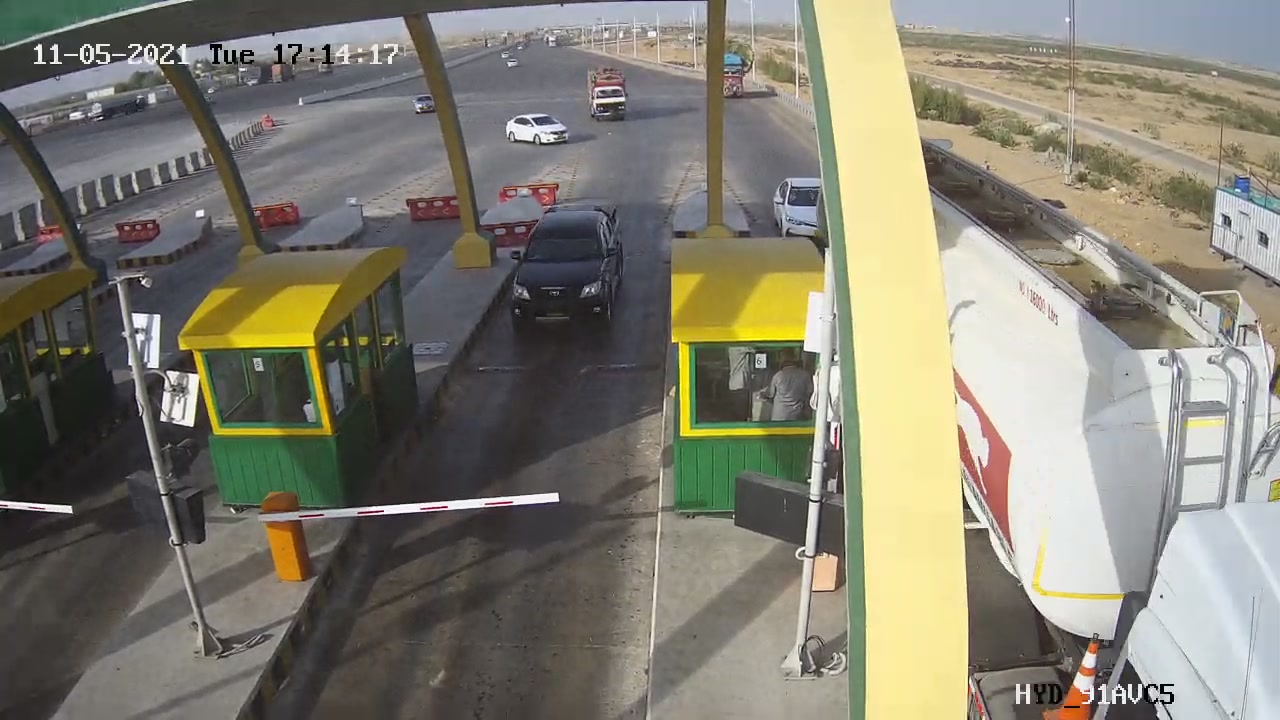F1: (485, 182, 651, 361)
